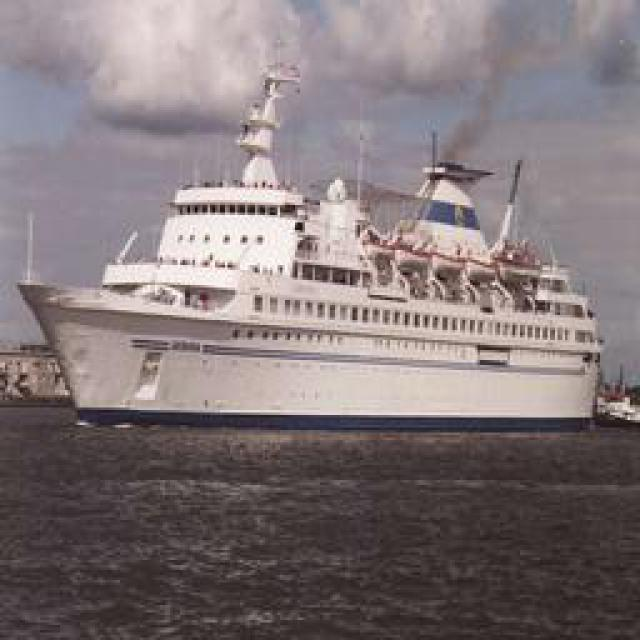Ship: (45, 107, 605, 425)
